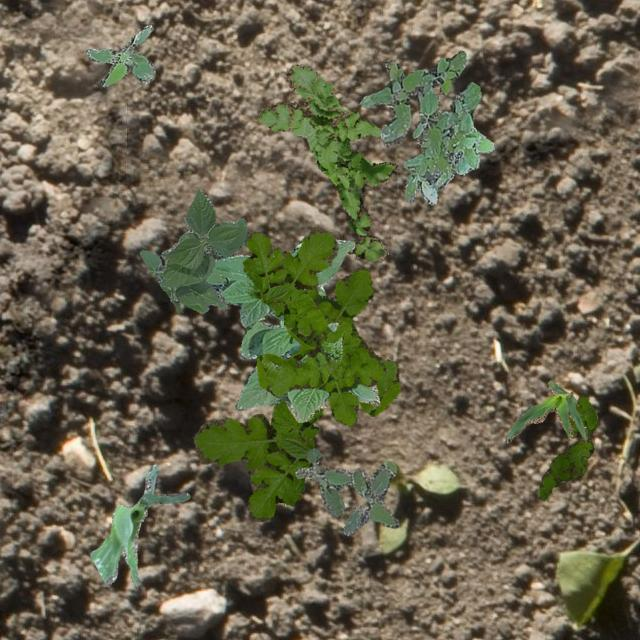crop: (204, 238, 378, 422), (138, 188, 248, 314), (90, 464, 190, 586), (504, 379, 586, 442), (278, 284, 324, 326)
weed: (192, 266, 400, 520), (242, 227, 384, 426), (256, 62, 396, 260), (358, 50, 494, 204), (294, 448, 398, 534), (536, 394, 596, 500), (84, 24, 154, 86)
